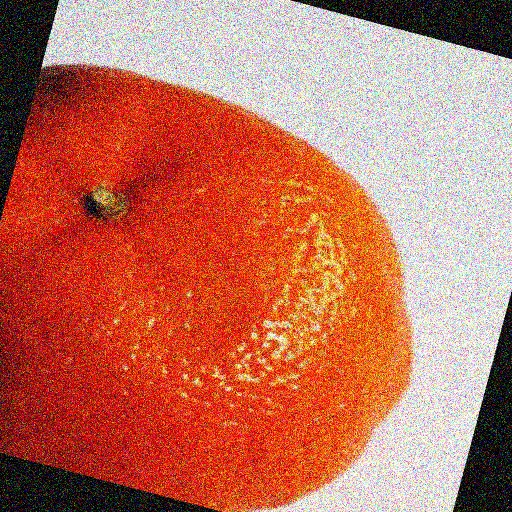fruit: (322, 198, 495, 512)
